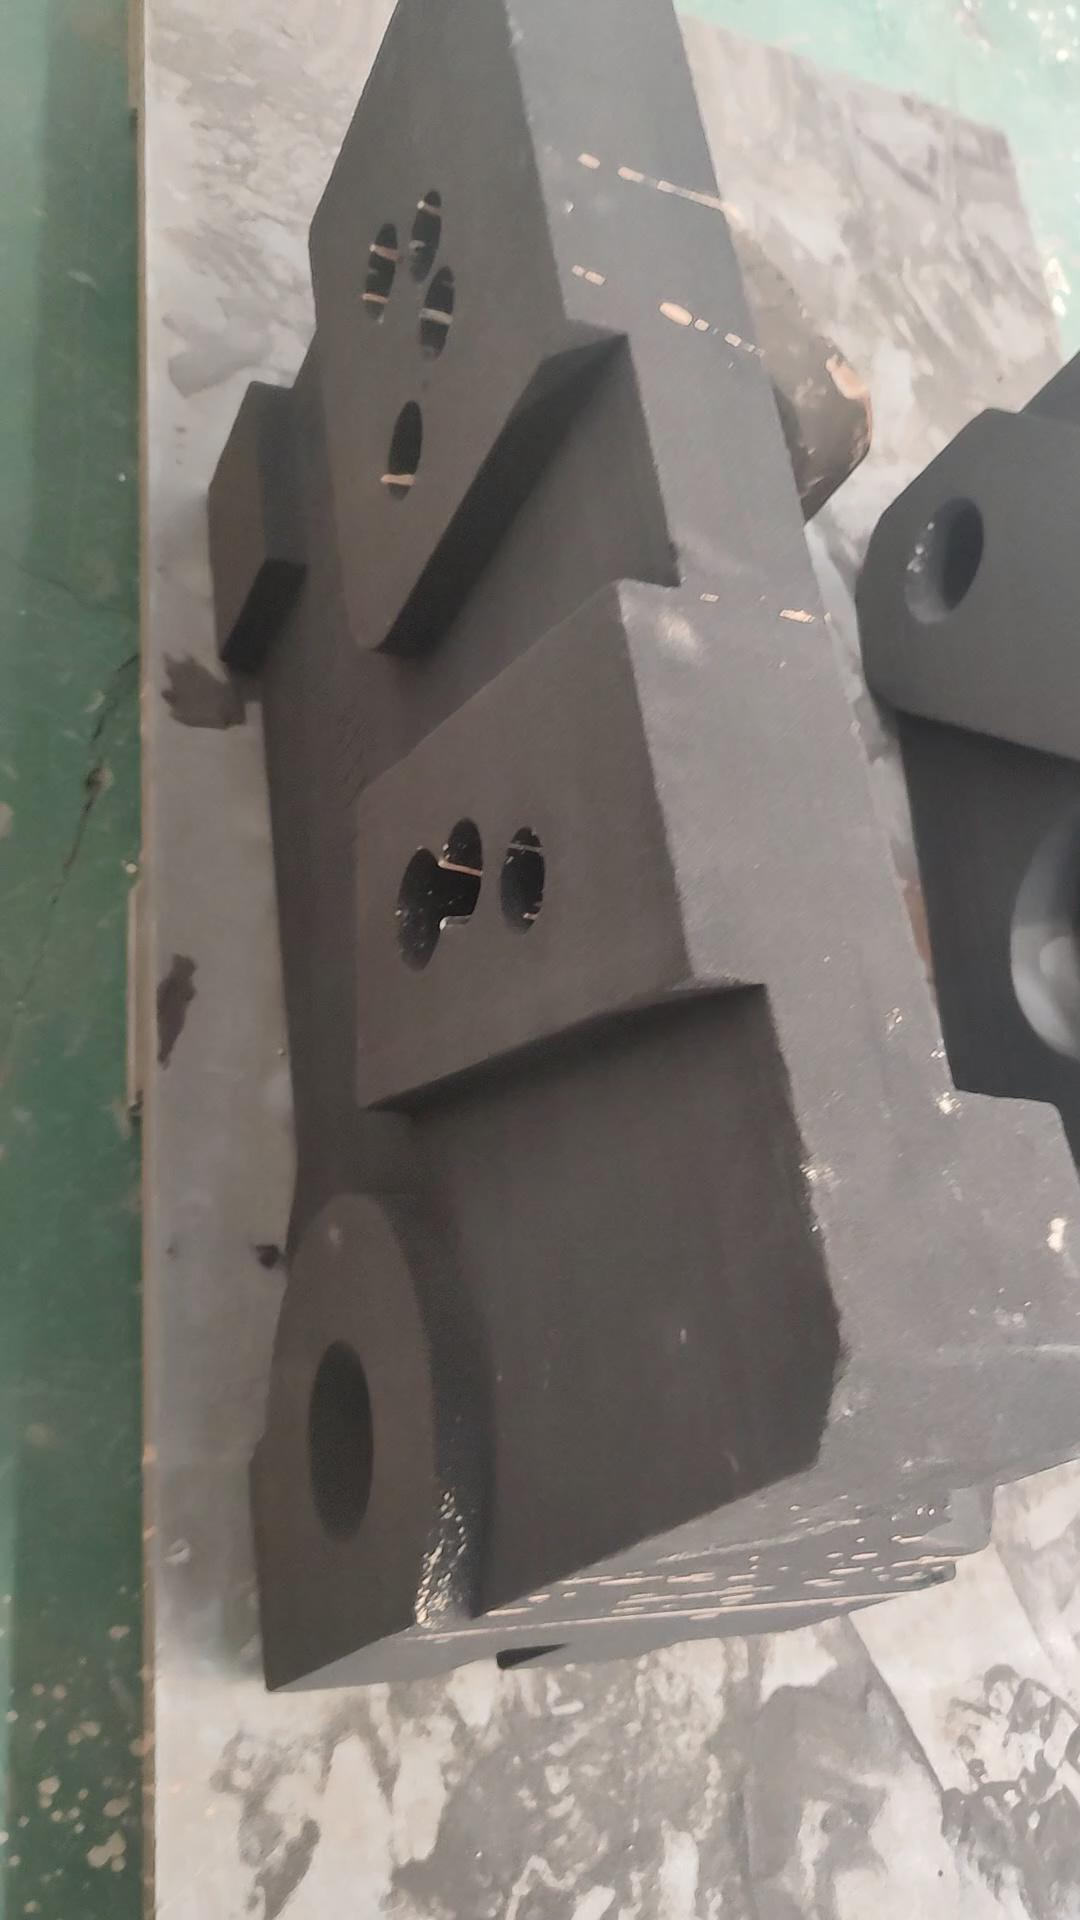pouring hole: (309, 1338, 375, 1544), (899, 495, 988, 625)
